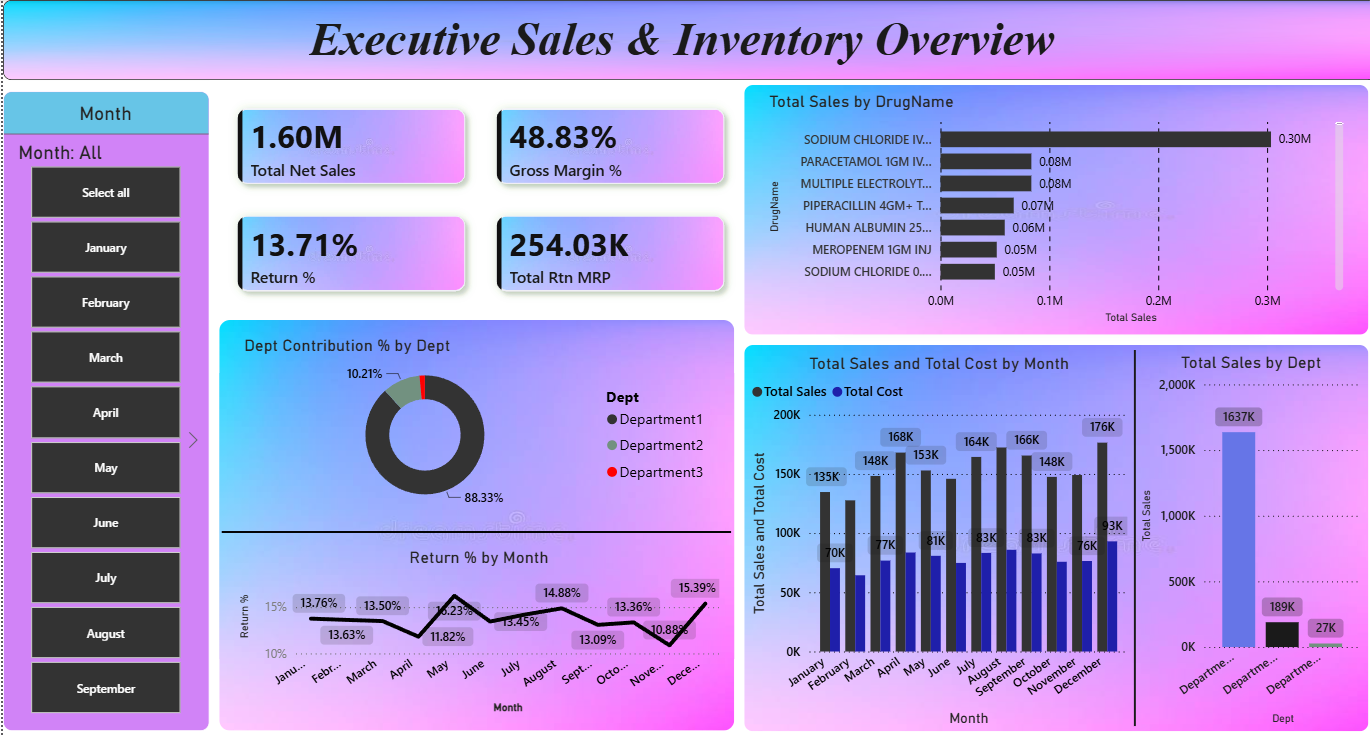

The page's visual inventory and layout, read from the dashboard file:
{"tool":"powerbi","page":{"name":"Dashboard 1","canvas":[1400,750],"ordinal":0},"visuals":[{"type":"barChart","title":"Top 10 drugs by sales","fields":{"Category":["DimProduct.DrugName"],"Y":["Dash 1 DAX House.Total Sales"]},"box":[853.3,115.5,426.6,210.6],"z":0},{"type":"slicer","title":"Month","fields":{"Values":["DimDate.Dateofbill.Variation.Date Hierarchy.Month"]},"box":[0,92.4,210.6,652.2],"z":1000},{"type":"image","box":[0,0,1399.5,81.5],"z":2000},{"type":"textbox","box":[307.1,8.2,785.3,66.6],"z":3000},{"type":"cardVisual","fields":{"Data":["Dash 1 DAX House.Total Net Sales","Dash 1 DAX House.Gross Margin %","Dash 1 DAX House.Return Rate (Value)","Dash 1 DAX House.Total Rtn MRP"]},"box":[210.2,81.5,555.4,244.6],"z":4000},{"type":"image","box":[220.1,326.1,524.5,418.5],"z":5000},{"type":"donutChart","fields":{"Category":["DimDept.Dept"],"Y":["DimDate.Dept Contribution %"]},"box":[240.5,341,487.8,184.8],"z":6000},{"type":"lineChart","fields":{"Y":["Dax House.Return Rate (Value)"],"Category":["DimDate.Dateofbill.Variation.Date Hierarchy.Month"]},"box":[233.7,550.3,504.1,183.4],"z":7000},{"type":"shape","box":[222.8,529.9,519,24.5],"z":8000},{"type":"image","box":[755.4,86.6,635.6,254.8],"z":9000},{"type":"barChart","fields":{"Category":["DimProduct.DrugName"],"Y":["Dash 1 DAX House.Total Sales"]},"box":[775.8,92.4,595.1,241.8],"z":10000},{"type":"image","box":[755.4,351.6,635.6,393.6],"z":11000},{"type":"clusteredColumnChart","fields":{"Category":["DimDate.Dateofbill.Variation.Date Hierarchy.Month"],"Y":["Dash 1 DAX House.Total Sales","Dash 1 DAX House.Total Cost"]},"box":[755.4,352.8,397.4,393.6],"z":12000},{"type":"clusteredColumnChart","fields":{"Category":["DimDept.Dept"],"Y":["Dash 1 DAX House.Total Sales"]},"box":[1152.8,351.6,238.2,393.6],"z":13000},{"type":"shape","box":[1003.7,356.7,299.3,383.4],"z":14000}]}

Visuals, with their boxes in screenshot pixels (x1, y1, x2, y2), scaled from the page's 1400x750 canvas onto the 1370x736 screenshot:
"Top 10 drugs by sales" barChart: select_region(835, 113, 1252, 320)
"Month" slicer: select_region(0, 91, 206, 731)
image: select_region(0, 0, 1369, 80)
textbox: select_region(301, 8, 1069, 73)
cardVisual - Dash 1 DAX House.Total Net Sales x Dash 1 DAX House.Gross Margin %: select_region(206, 80, 749, 320)
image: select_region(215, 320, 729, 731)
donutChart - DimDept.Dept x DimDate.Dept Contribution %: select_region(235, 335, 713, 516)
lineChart - Dax House.Return Rate (Value) x DimDate.Dateofbill.Variation.Date Hierarchy.Month: select_region(229, 540, 722, 720)
shape: select_region(218, 520, 726, 544)
image: select_region(739, 85, 1361, 335)
barChart - DimProduct.DrugName x Dash 1 DAX House.Total Sales: select_region(759, 91, 1342, 328)
image: select_region(739, 345, 1361, 731)
clusteredColumnChart - DimDate.Dateofbill.Variation.Date Hierarchy.Month x Dash 1 DAX House.Total Sales: select_region(739, 346, 1128, 732)
clusteredColumnChart - DimDept.Dept x Dash 1 DAX House.Total Sales: select_region(1128, 345, 1361, 731)
shape: select_region(982, 350, 1275, 726)
